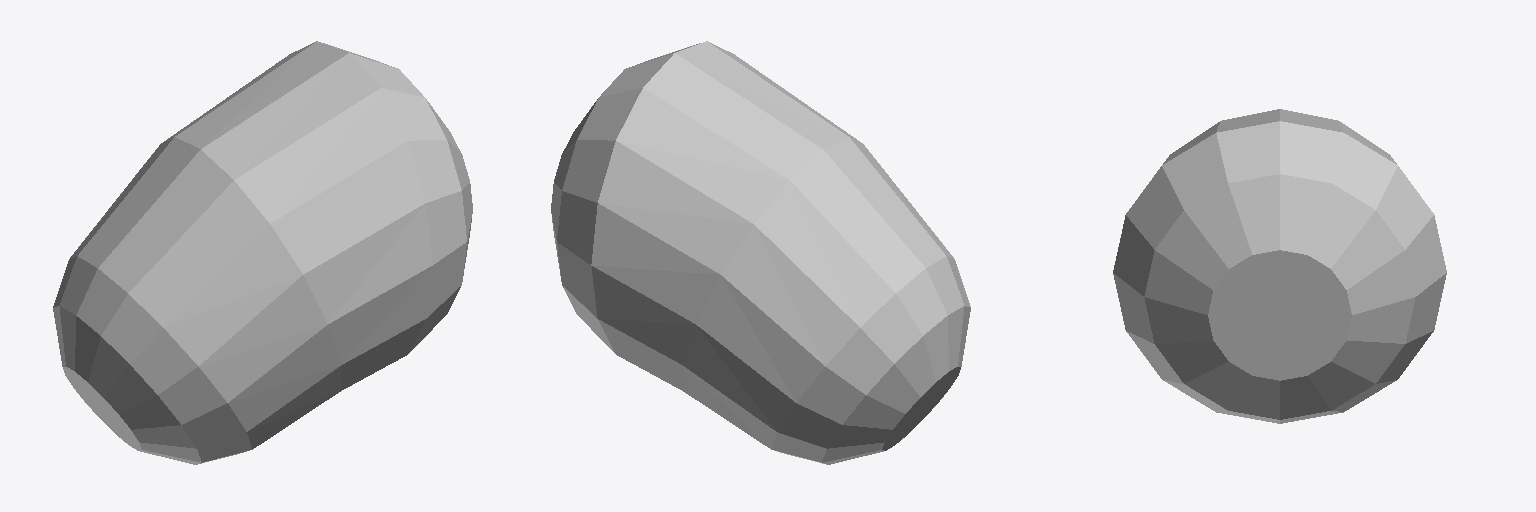
File: rhandup.obj
The picture shows the model from 3 angles: view 1: azimuth 30°, elevation 25°; view 2: azimuth 150°, elevation 25°; view 3: azimuth 270°, elevation 25°; orthographic projection.
Visible parts, largest first — view 1: al:uparmR; view 2: al:uparmR; view 3: al:uparmR.
Part boxes in pixels (bbox=[...]): al:uparmR: bbox=[53, 41, 472, 464]; al:uparmR: bbox=[551, 41, 970, 464]; al:uparmR: bbox=[1113, 109, 1446, 423].
Bounding box in the file's own units: 1.28 × 1.22 × 1.02.